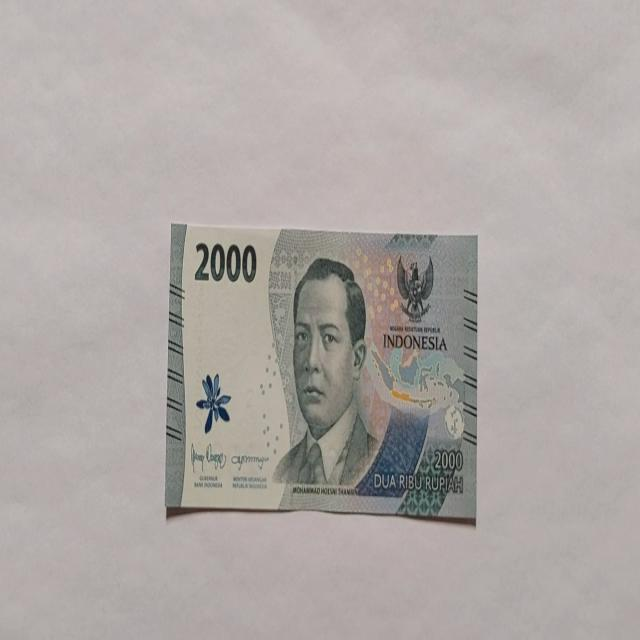dua ribu rupiah: (165, 221, 478, 520), (272, 256, 381, 490)
